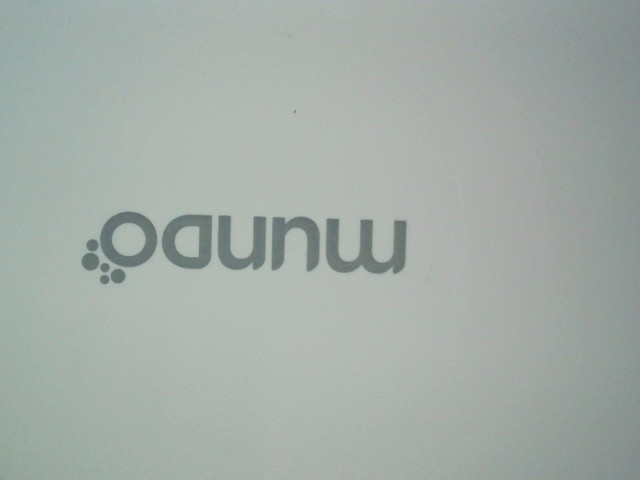BI_MUNDO: (67, 197, 416, 291)
